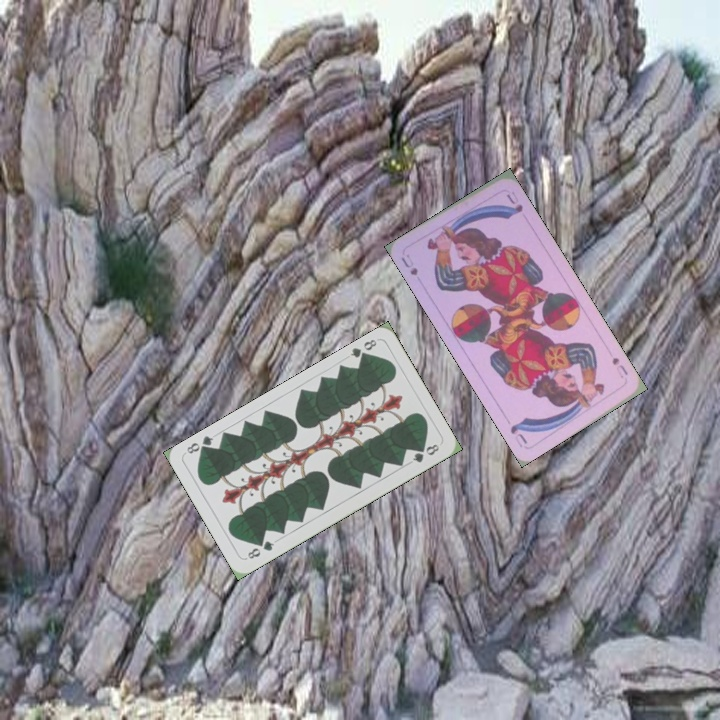G8: (346, 335, 379, 364), (243, 537, 277, 562)
SU: (397, 250, 420, 278), (608, 353, 631, 381)
